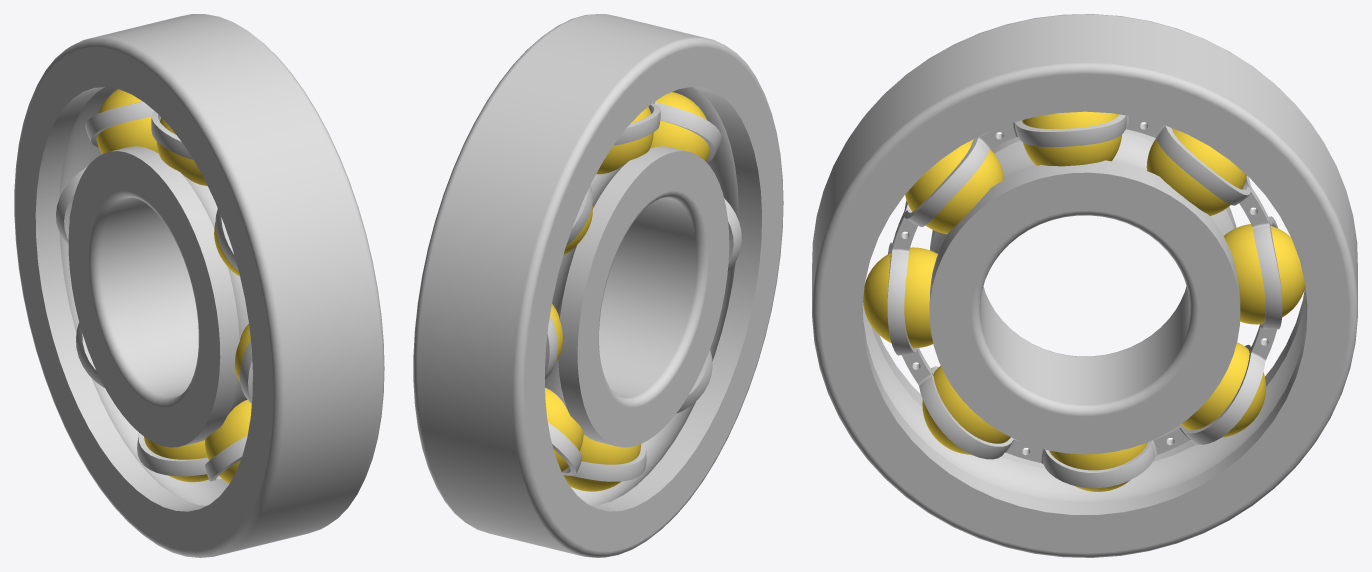
Rendered from ball_bearing.glb.
3 renders of one model, left to right at view 1: azimuth 30°, elevation 25°; view 2: azimuth 150°, elevation 25°; view 3: azimuth 270°, elevation 25°, orthographic. The views are drawn at different scales.
Visible parts, largest first — view 1: Solid1_0, Solid1_2, Solid1_22, Solid1_6, Solid1_14, Solid1_16, Solid1_8; view 2: Solid1_0, Solid1_2, Solid1_22, Solid1_10, Solid1_16, Solid1_18, Solid1_8; view 3: Solid1_0, Solid1_2, Solid1_20, Solid1_4, Solid1_12, Solid1_10, Solid1_6, Solid1_8, Solid1_18, Solid1_14, Solid1_16, Solid1_22.
Boxes of the visible parts, x1=… form: Solid1_0: x1=14, y1=14, x2=384, y2=557; Solid1_2: x1=68, y1=146, x2=248, y2=447; Solid1_22: x1=56, y1=101, x2=252, y2=481; Solid1_6: x1=96, y1=89, x2=158, y2=153; Solid1_14: x1=205, y1=399, x2=251, y2=483; Solid1_16: x1=144, y1=436, x2=208, y2=482; Solid1_8: x1=156, y1=118, x2=207, y2=185; Solid1_0: x1=413, y1=14, x2=783, y2=557; Solid1_2: x1=545, y1=146, x2=729, y2=447; Solid1_22: x1=545, y1=101, x2=741, y2=481; Solid1_10: x1=650, y1=92, x2=709, y2=161; Solid1_16: x1=564, y1=434, x2=640, y2=491; Solid1_18: x1=545, y1=387, x2=583, y2=472; Solid1_8: x1=596, y1=106, x2=653, y2=174; Solid1_0: x1=812, y1=14, x2=1357, y2=557; Solid1_2: x1=929, y1=129, x2=1240, y2=454; Solid1_20: x1=887, y1=114, x2=1282, y2=488; Solid1_4: x1=1223, y1=224, x2=1305, y2=324; Solid1_12: x1=863, y1=247, x2=937, y2=348; Solid1_10: x1=905, y1=139, x2=1004, y2=234; Solid1_6: x1=1146, y1=128, x2=1246, y2=215; Solid1_8: x1=1022, y1=111, x2=1121, y2=166; Solid1_18: x1=1181, y1=342, x2=1265, y2=437; Solid1_14: x1=922, y1=365, x2=1010, y2=454; Solid1_16: x1=1049, y1=442, x2=1147, y2=491; Solid1_22: x1=888, y1=120, x2=1278, y2=452.
Size of the model in its own units: 0.031 by 0.1299 by 0.13.
